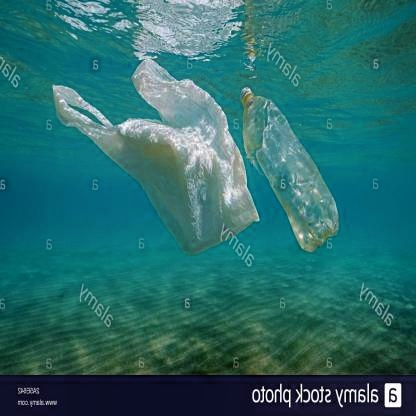pbag: (42, 46, 259, 258)
pbottle: (233, 84, 344, 254)
